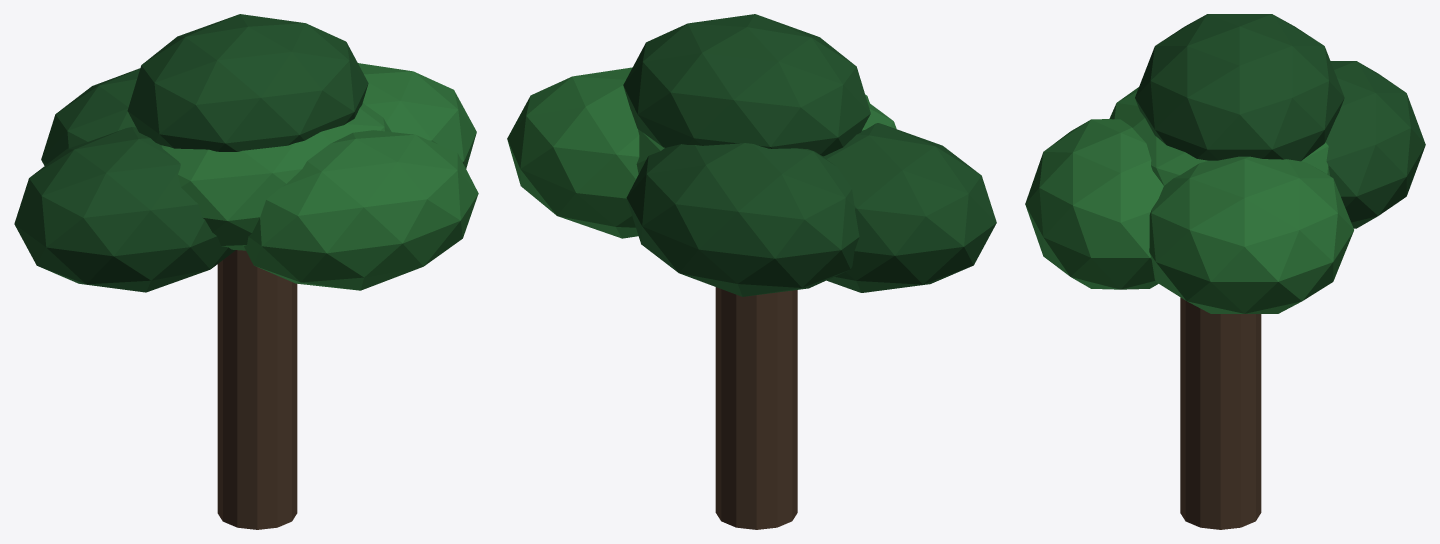
Rendered from SM_MistForestAncientOak_A.glb.
3 renders of one model, left to right at view 1: azimuth 30°, elevation 25°; view 2: azimuth 150°, elevation 25°; view 3: azimuth 270°, elevation 25°, orthographic. The views are drawn at different scales.
Visible parts, largest first — view 1: SM_MistForestAncientOak_A; view 2: SM_MistForestAncientOak_A; view 3: SM_MistForestAncientOak_A.
Boxes of the visible parts, left/top/right/bottom form: SM_MistForestAncientOak_A: left=14, top=14, right=478, bottom=529; SM_MistForestAncientOak_A: left=507, top=14, right=996, bottom=529; SM_MistForestAncientOak_A: left=1025, top=14, right=1425, bottom=529.
Bounding box in the file's own units: 10.73 × 11.25 × 8.4.
